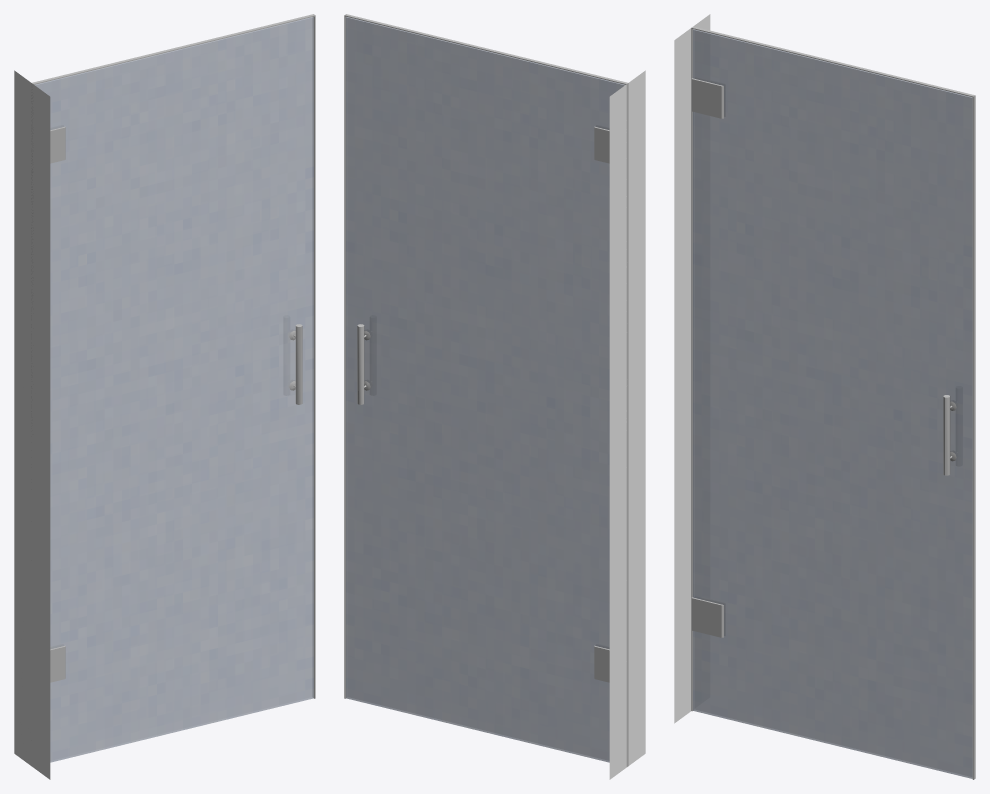
File: Glass Door 221.glb
3 views of the same model, side by side, from view 1: azimuth 30°, elevation 25°; view 2: azimuth 150°, elevation 25°; view 3: azimuth 330°, elevation 25° (orthographic).
Parts seen in each view (by area): view 1: Object_3, Object_7, Object_2, Object_6, Object_4; view 2: Object_3, Object_7, Object_2, Object_6, Object_4; view 3: Object_3, Object_7, Object_2, Object_6, Object_4.
Boxes of the visible parts, <box> form: Object_3: <box>35,17,313,762</box>; Object_7: <box>14,70,50,779</box>; Object_2: <box>31,14,315,698</box>; Object_6: <box>50,125,65,682</box>; Object_4: <box>287,324,302,404</box>; Object_3: <box>346,17,624,762</box>; Object_7: <box>609,70,645,779</box>; Object_2: <box>344,14,628,766</box>; Object_6: <box>594,125,609,682</box>; Object_4: <box>357,324,372,404</box>; Object_3: <box>693,29,972,778</box>; Object_7: <box>674,14,710,723</box>; Object_2: <box>691,26,975,779</box>; Object_6: <box>691,77,725,637</box>; Object_4: <box>943,395,957,475</box>.
Size of the model in its own units: 91 by 211 by 20.
6 materials, 1 textured.
